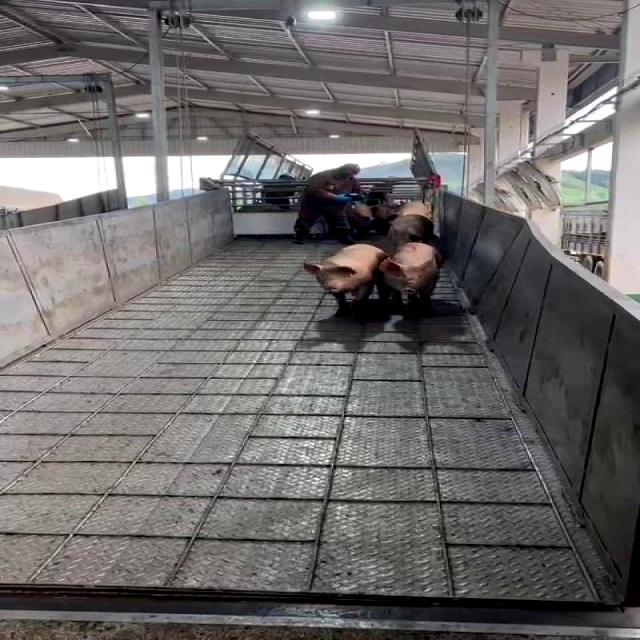pig: (305, 244, 387, 319), (381, 243, 440, 315)
